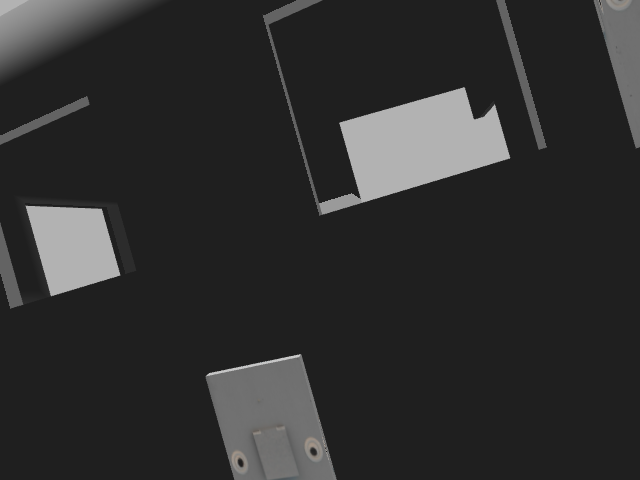facade: (226, 426, 322, 478)
